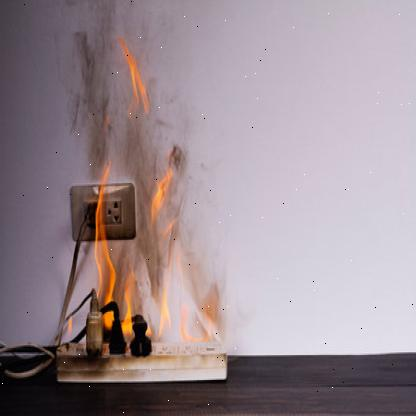fire: (82, 168, 236, 355), (122, 42, 146, 122)
smoke: (56, 0, 158, 290)
